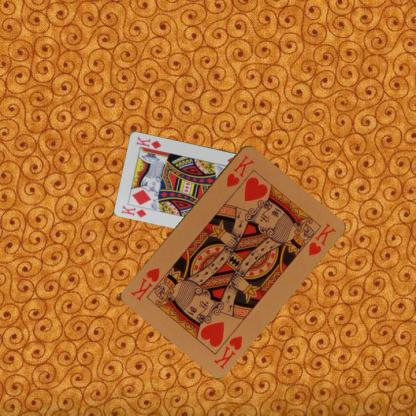Kd: (119, 203, 148, 219)
Kh: (210, 332, 244, 369), (224, 152, 256, 188)
